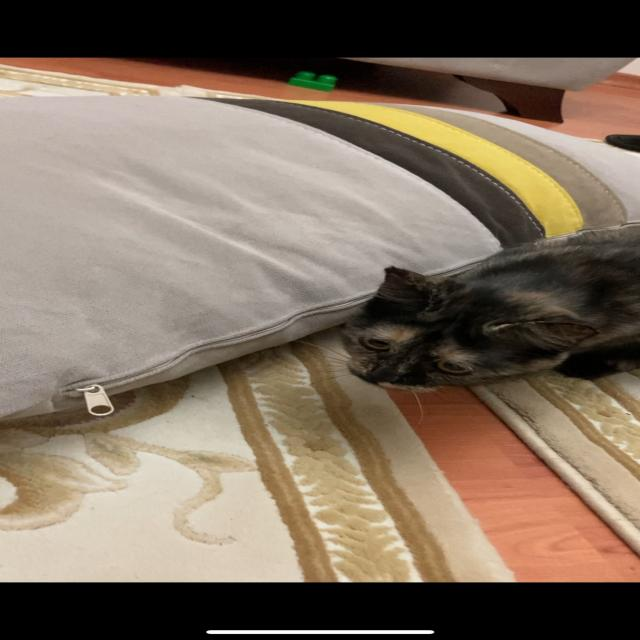authorized: (322, 236, 639, 394)
